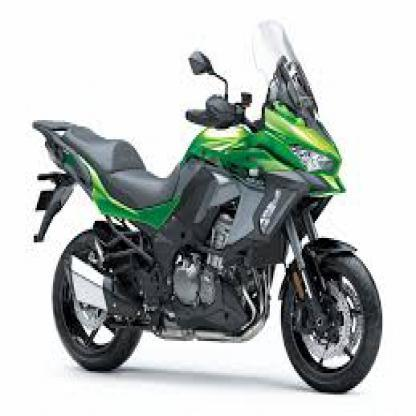Motorcycle: (21, 17, 385, 398)
